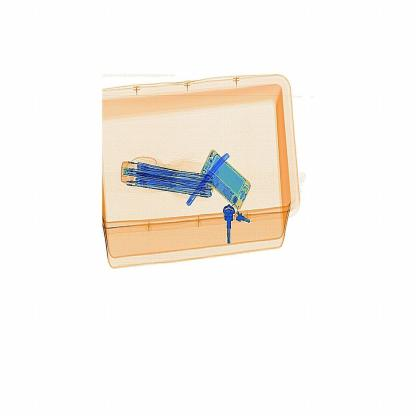pliers: (186, 140, 234, 212)
